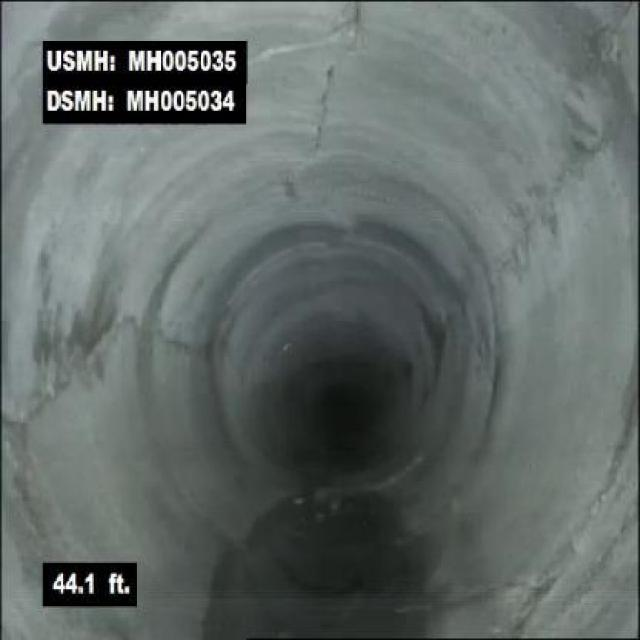Crack: (8, 304, 138, 444), (517, 456, 623, 622), (511, 117, 620, 258), (312, 6, 368, 151), (408, 580, 509, 618)
